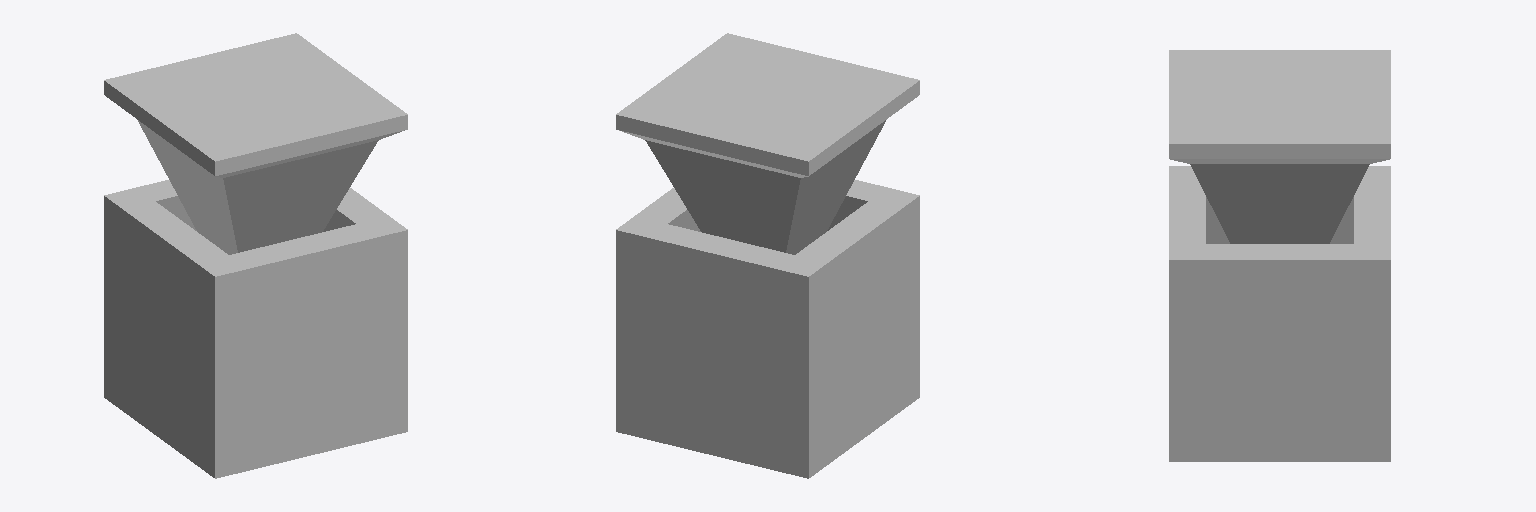
Rendered from AnimatedBox_000145.obj.
3 views of the same model, side by side, from view 1: azimuth 30°, elevation 25°; view 2: azimuth 150°, elevation 25°; view 3: azimuth 270°, elevation 25° (orthographic).
Visible parts, largest first — view 1: Cube, Cube.001; view 2: Cube, Cube.001; view 3: Cube, Cube.001.
Boxes of the visible parts, box(x1,y1,x2,y2) form: Cube: box(104, 180, 407, 478); Cube.001: box(104, 33, 407, 254); Cube: box(616, 180, 919, 478); Cube.001: box(616, 33, 919, 254); Cube: box(1169, 166, 1390, 461); Cube.001: box(1169, 50, 1390, 243).
Size of the model in its own units: 2 by 3.14 by 2.